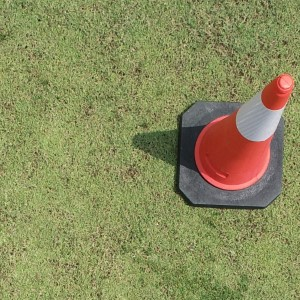traffic cone: (177, 74, 294, 207)
